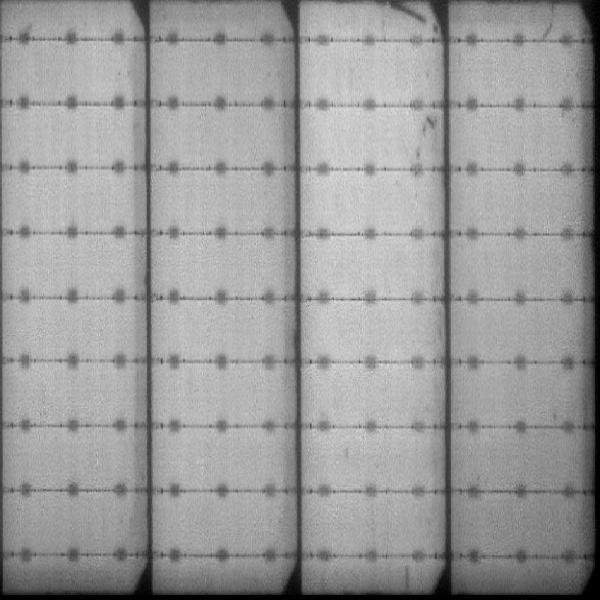scratch: (386, 3, 440, 32), (537, 1, 557, 39)
